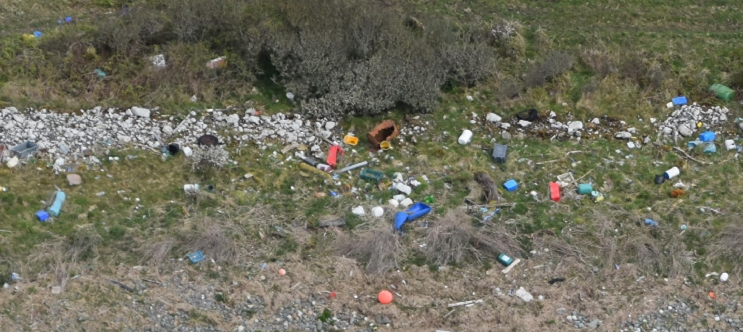scattered_barrel: (13, 4, 242, 95), (481, 244, 582, 322)
together_barrel: (300, 76, 743, 233), (4, 128, 229, 226)
white_in_green: (347, 262, 426, 330), (159, 223, 228, 284)
